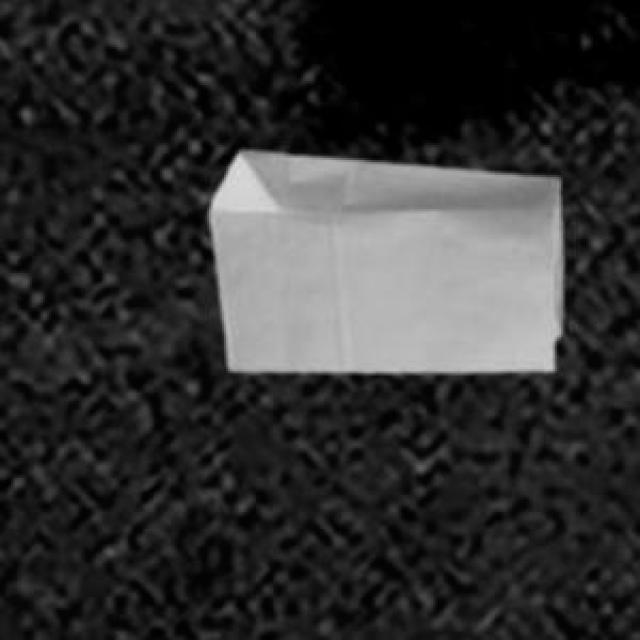paper: (207, 147, 559, 367)
